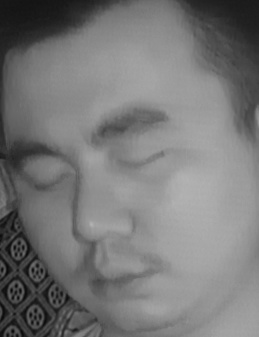blink: (116, 141, 169, 180), (24, 161, 73, 199)
mouth: (84, 249, 169, 306)
